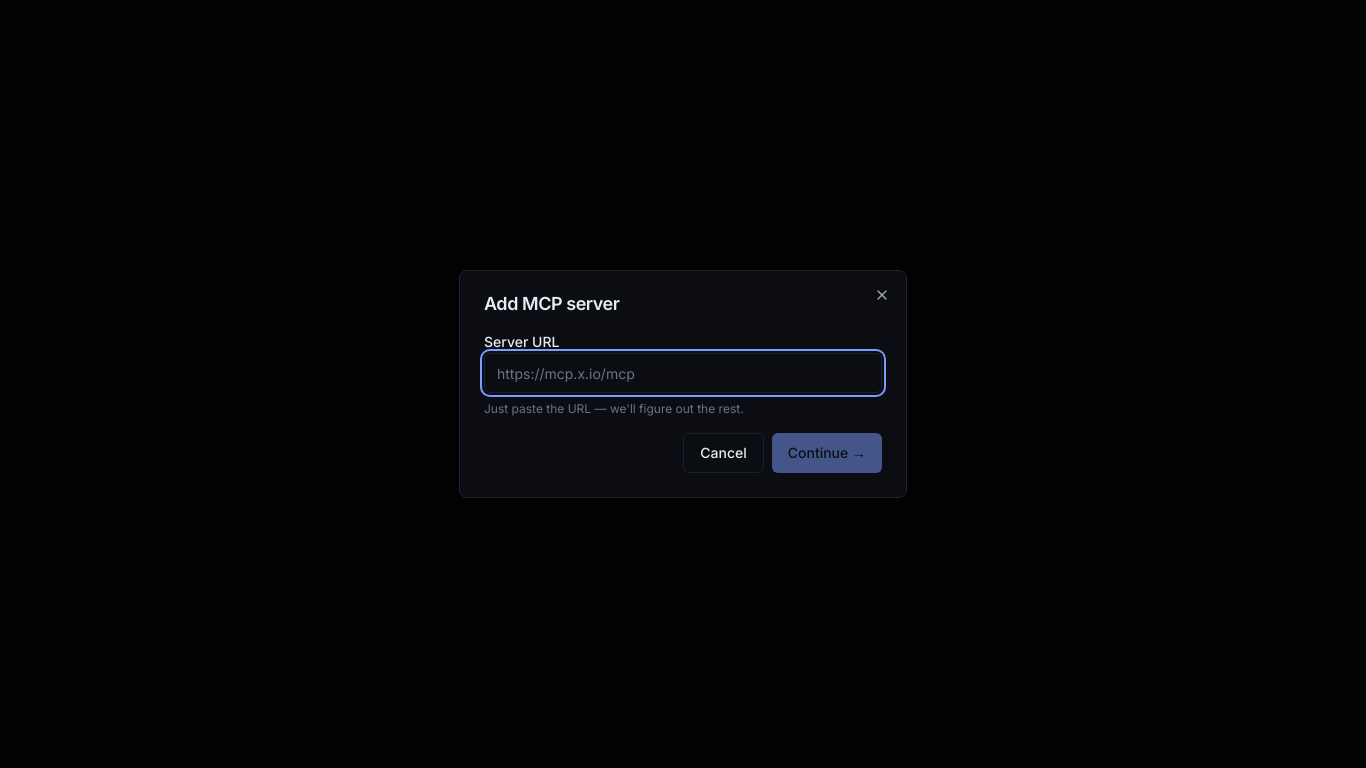
Test case: AddMcpWizard — apikey path › surfaces finalize failure instead of silently closing on Save & Connect
Step 1. Type "https://mcp.test/mcp" into the field with placeholder "https://mcp.x.io/mcp" → point(683, 373), box [484, 353, 882, 393]
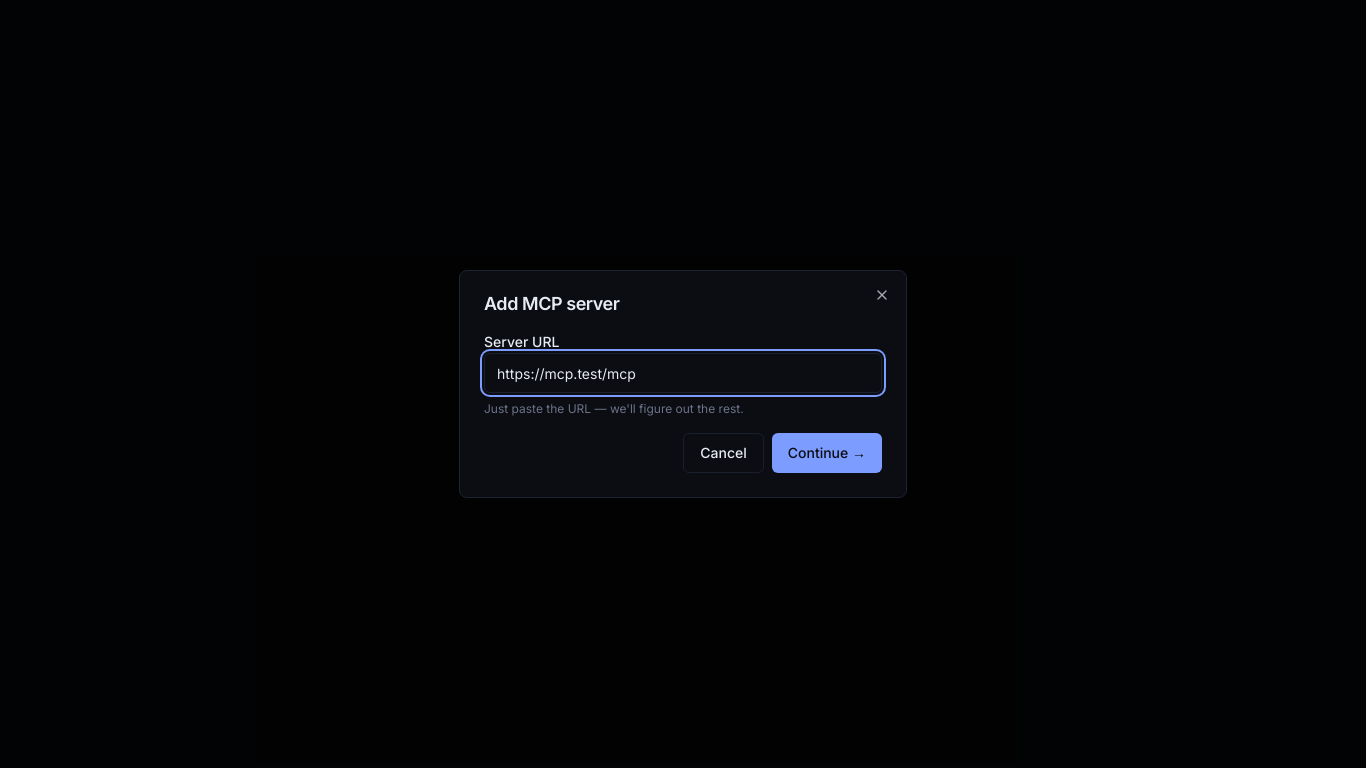
Step 2. Click the button "Continue →" → point(827, 453), box [772, 433, 882, 473]
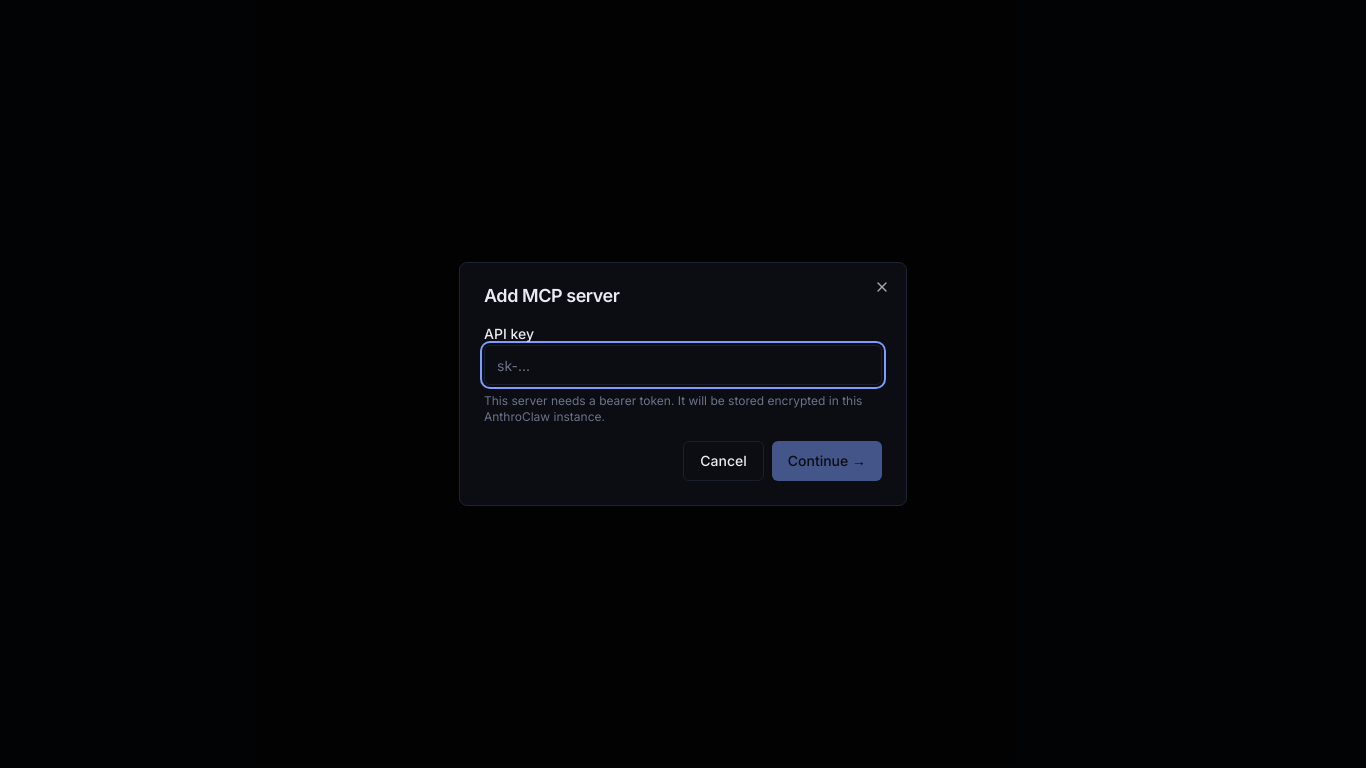
Now the text "bearer token" is shown, box [484, 393, 862, 424]
Step 3. Type "sk_test" into the password field labelled "API key" → point(683, 365), box [484, 345, 882, 385]
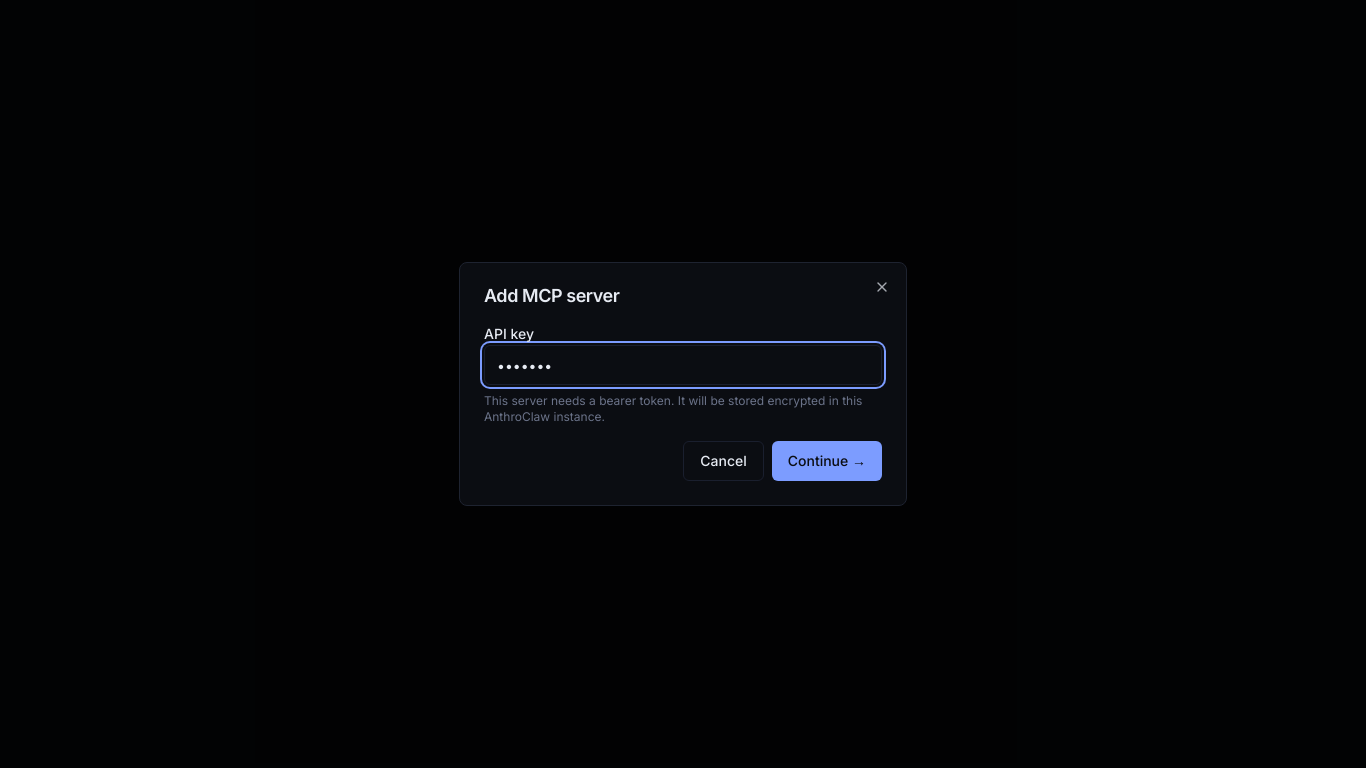
Step 4. Click the button "Continue →" → point(827, 461), box [772, 441, 882, 481]
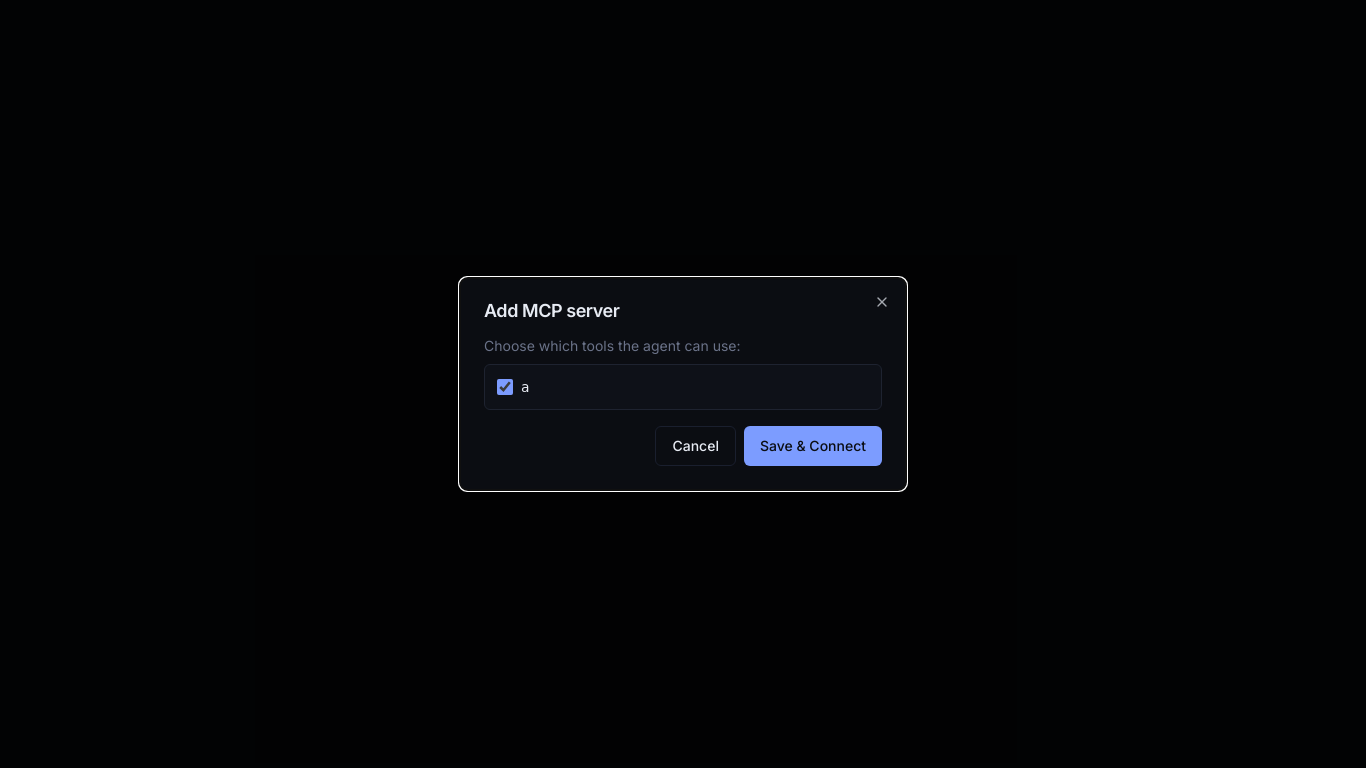
Now the text "a" is shown, box [521, 377, 529, 397]
Step 5. Click the button "Save & Connect" → point(813, 446), box [744, 426, 882, 466]
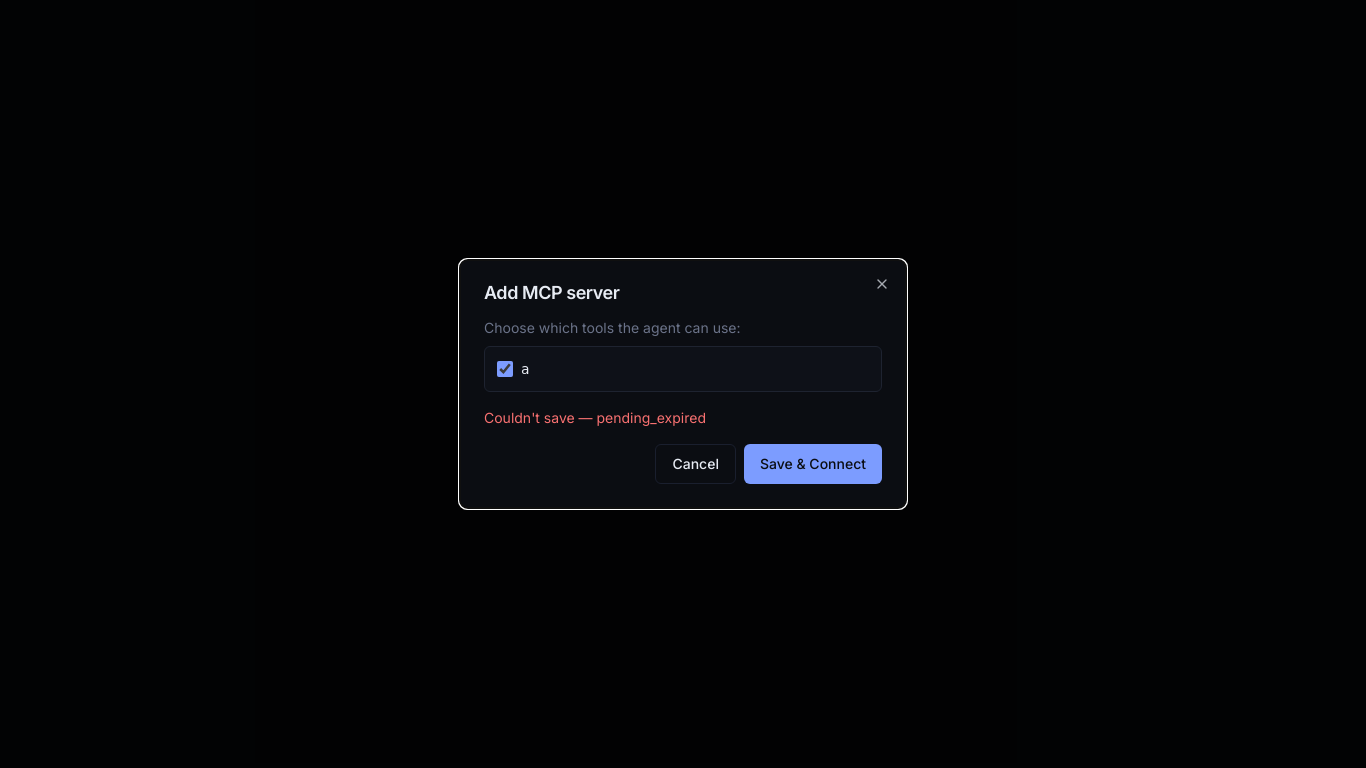
Now the text "Couldn't save — pending_expired" is shown, box [484, 409, 706, 426]
